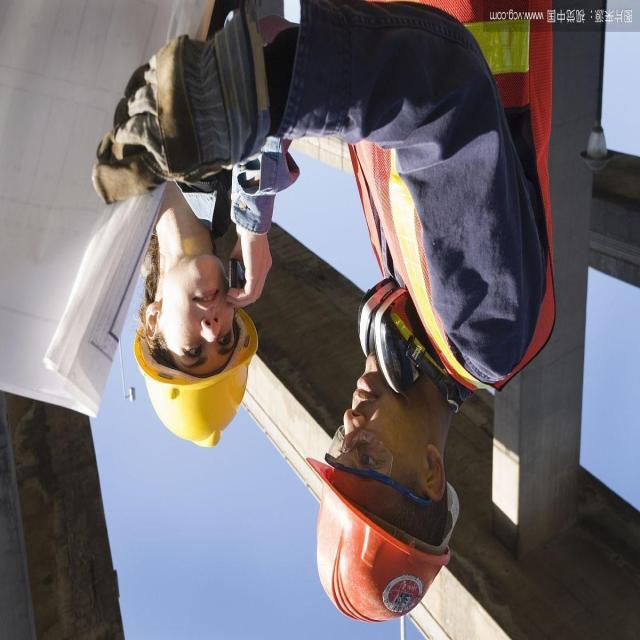helmet: (296, 453, 450, 634), (126, 308, 256, 451)
jacket: (322, 1, 572, 398)
